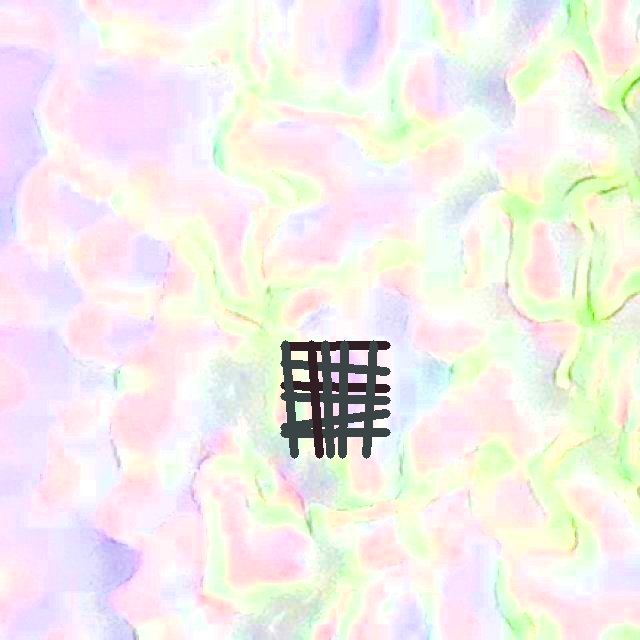open: (281, 341, 390, 457)
